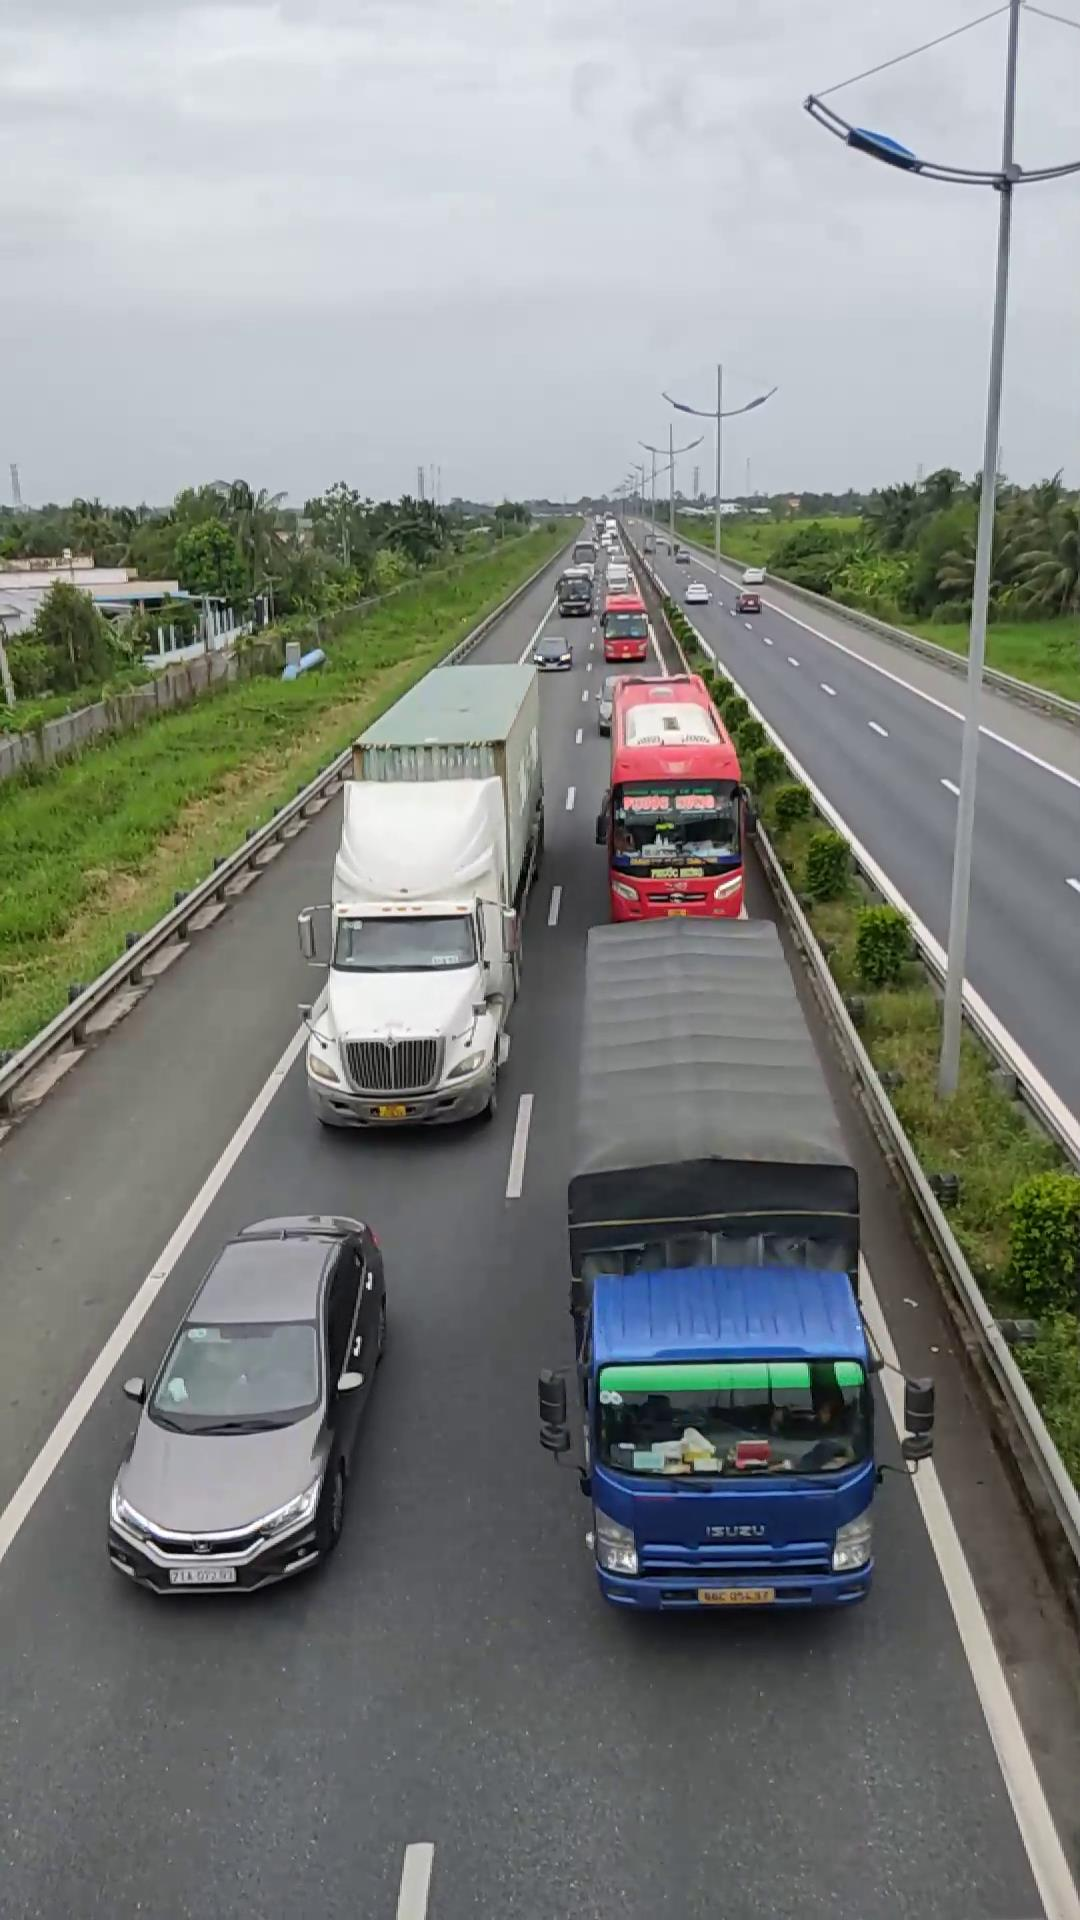bus: (596, 669, 752, 918)
car: (105, 1213, 392, 1592)
container: (306, 653, 547, 1135)
truck: (543, 939, 889, 1614)
